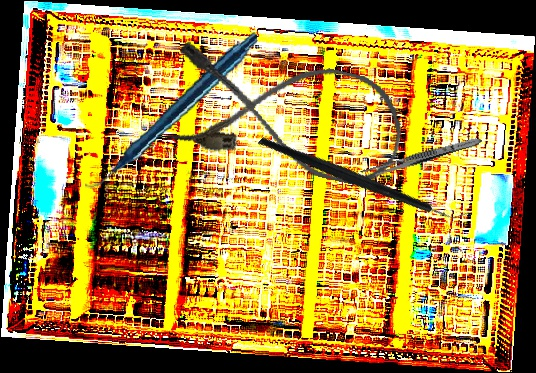Cannula: (159, 34, 415, 194)
Chopper: (257, 74, 471, 281)
Dressing Forceps: (358, 133, 484, 183)
Handpiece: (68, 30, 274, 191)
